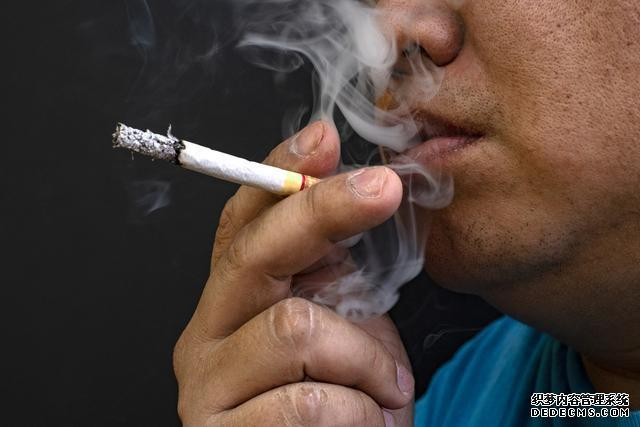Cigarette: (110, 120, 306, 200)
